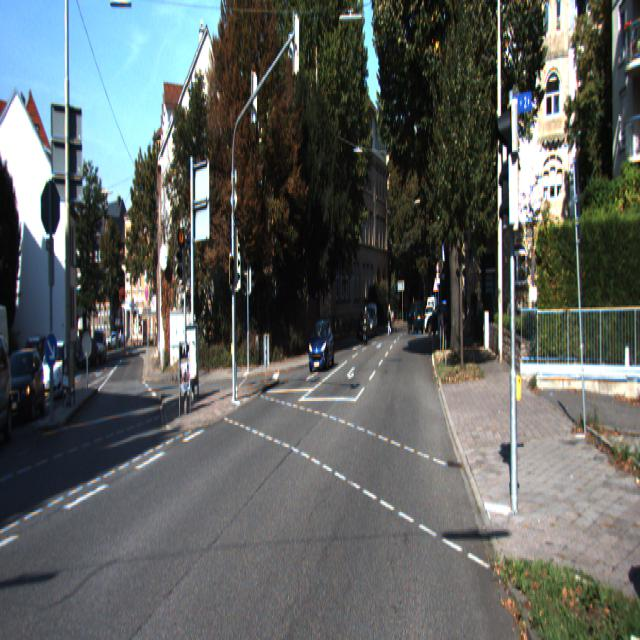Car: (0, 345, 46, 433), (308, 316, 336, 374), (362, 304, 370, 343)
